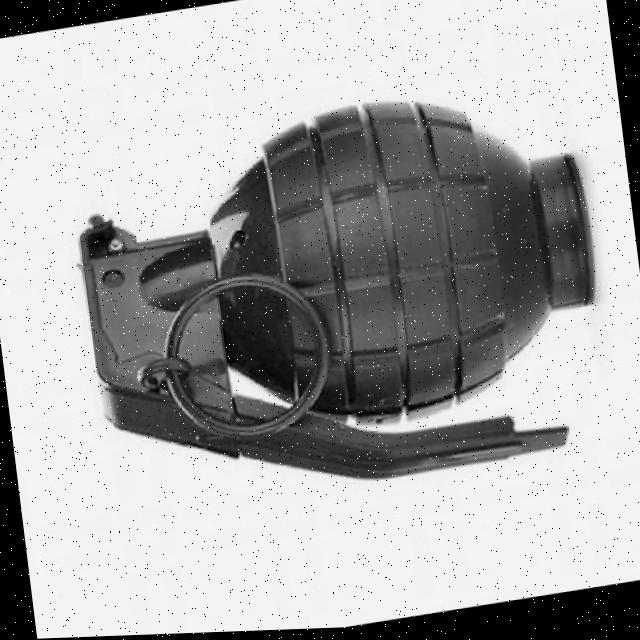grenade: (64, 70, 628, 555)
